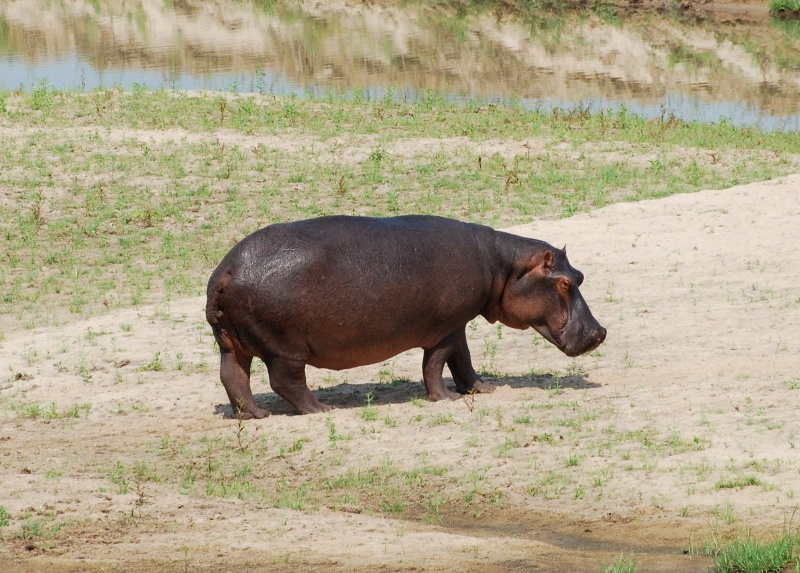hipopotamo: (202, 212, 609, 416)
